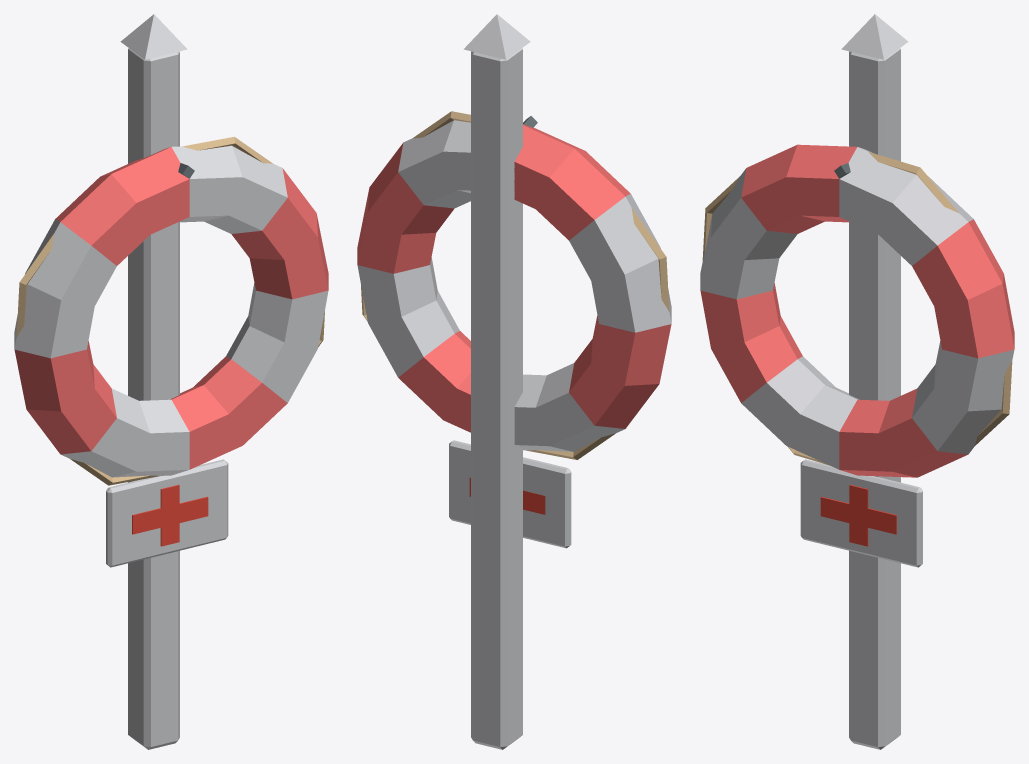
Rendered from lifebuoyStand.glb.
The picture shows the model from 3 angles, left to right: view 1: azimuth 30°, elevation 25°; view 2: azimuth 150°, elevation 25°; view 3: azimuth 330°, elevation 25°; orthographic projection.
Parts seen in each view (by area): view 1: lifebuoyStand-m; view 2: lifebuoyStand-m; view 3: lifebuoyStand-m.
Boxes of the visible parts, x1,y1,x2,y2 form: lifebuoyStand-m: [14, 14, 328, 749]; lifebuoyStand-m: [357, 14, 671, 749]; lifebuoyStand-m: [700, 14, 1014, 749].
Size of the model in its own units: 1.04 by 2.3 by 0.2749.
